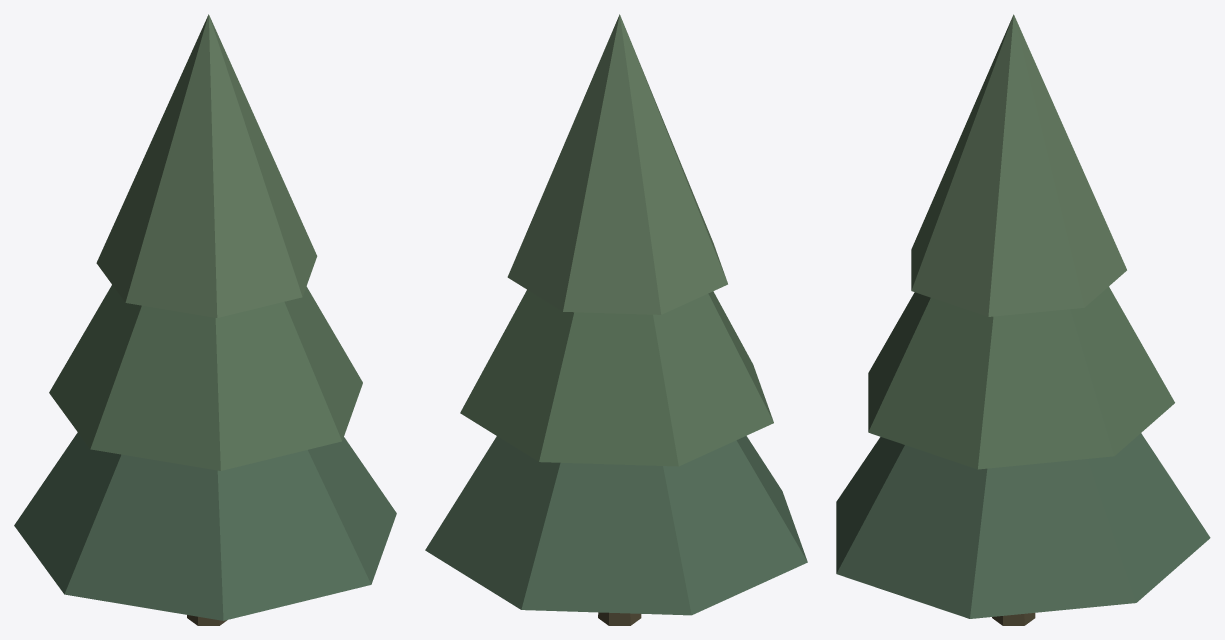
File: pine.glb
The picture shows the model from 3 angles, left to right: view 1: azimuth 30°, elevation 25°; view 2: azimuth 150°, elevation 25°; view 3: azimuth 270°, elevation 25°; orthographic projection.
Parts seen in each view (by area): view 1: pine; view 2: pine; view 3: pine.
Part boxes in pixels (left/top/right/bottom): pine: left=14, top=14, right=396, bottom=625; pine: left=425, top=14, right=807, bottom=625; pine: left=836, top=14, right=1210, bottom=625.
Size of the model in its own units: 7.6 by 13.2 by 7.41.
